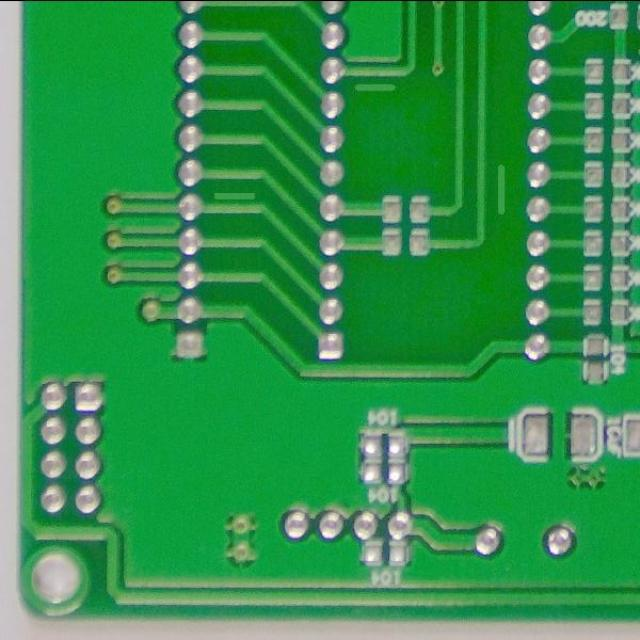Spurious_Cooper: (491, 159, 511, 219), (349, 78, 402, 96), (208, 188, 261, 204)
